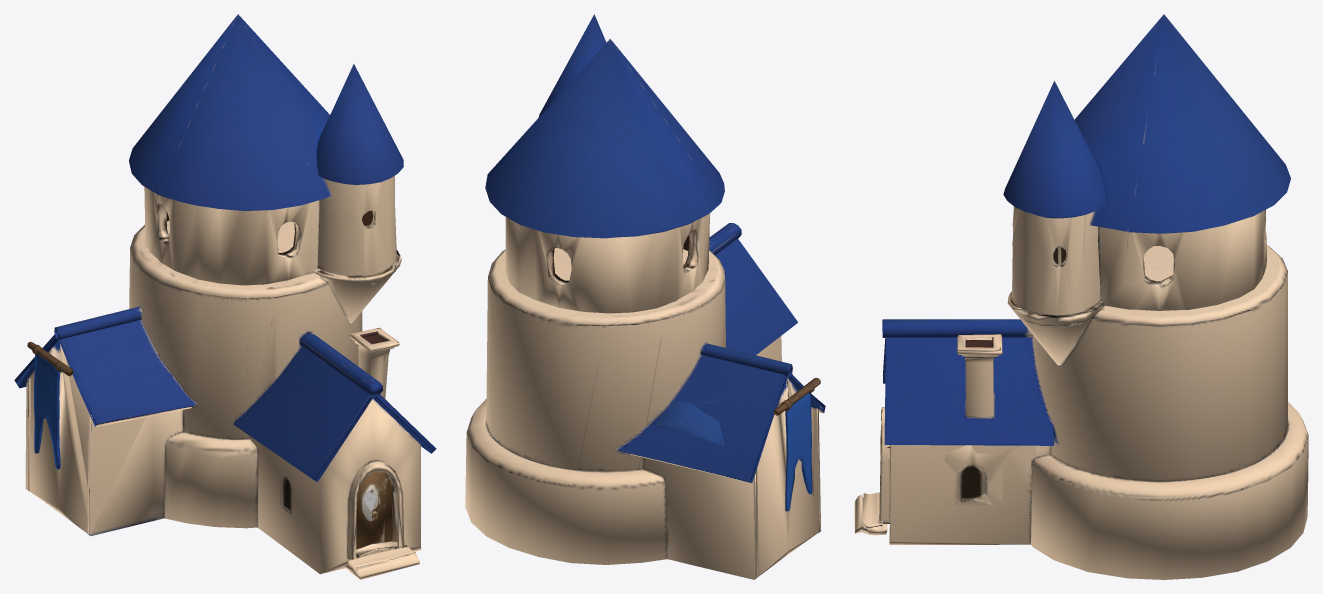
File: meshy-c-3000.glb
3 renders of one model, left to right at view 1: azimuth 30°, elevation 25°; view 2: azimuth 150°, elevation 25°; view 3: azimuth 270°, elevation 25°, orthographic. The views are drawn at different scales.
Bounding box in the file's own units: 0.7157 × 1 × 0.8234.
Materials: 1 (1 with a texture image).
